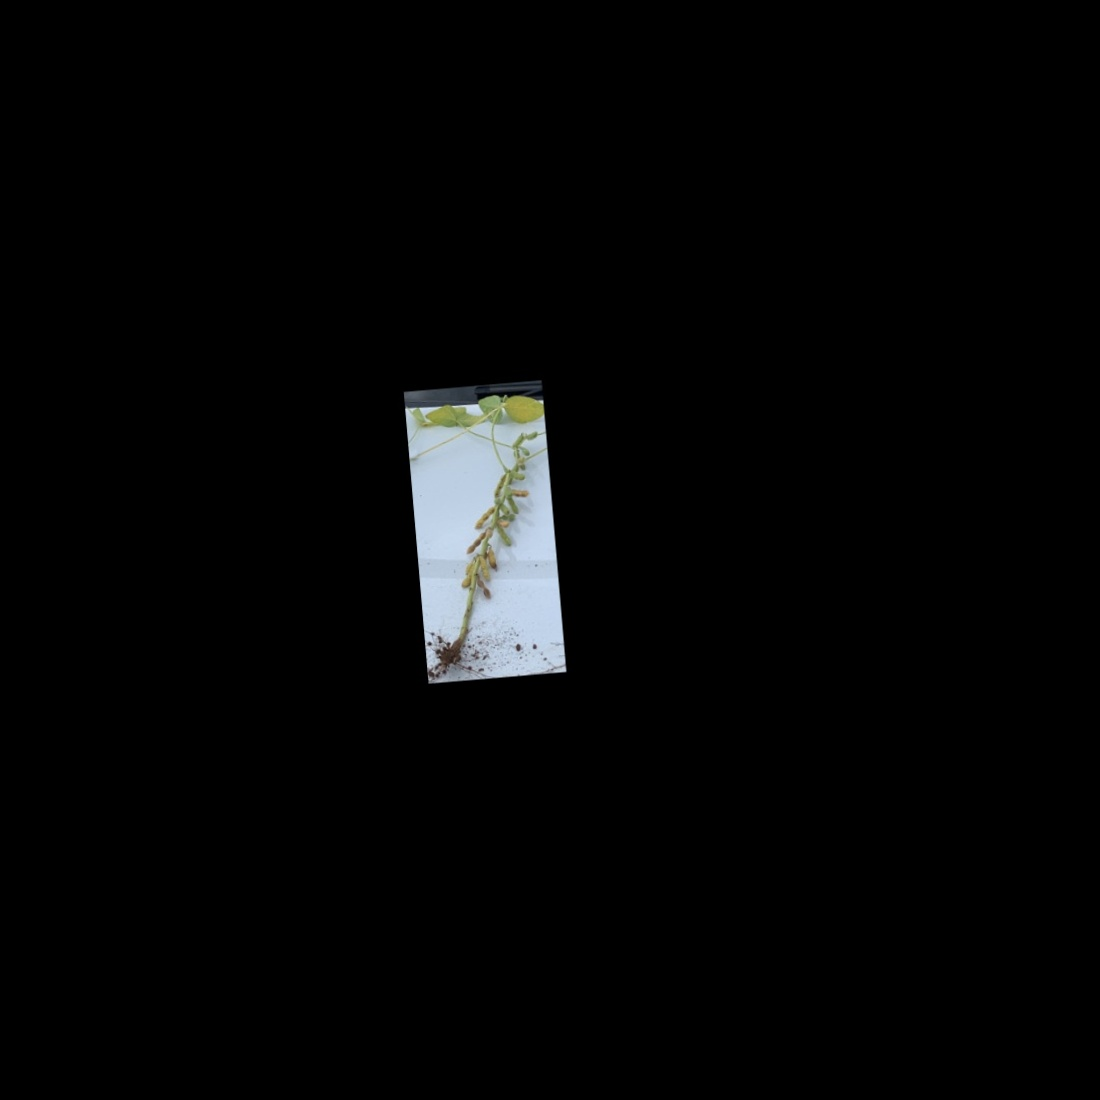pod: (461, 527, 487, 555), (471, 505, 496, 531), (489, 473, 509, 501), (476, 556, 494, 583), (495, 526, 513, 551), (504, 486, 530, 498), (510, 469, 525, 483)
soy: (420, 394, 562, 675)
